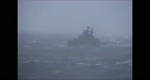tau_muctieu: (69, 26, 103, 48)
